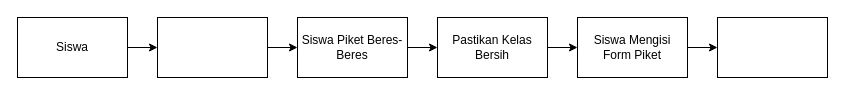
The diagram is 845 pixels wide and 95 high, and some of its shapes have lost their labels. Here are the shapes that lost their labels. From the top down, the box of each, then its label:
(156, 16, 268, 78): Pulang Sekolah
(716, 16, 828, 78): W.A Notip
